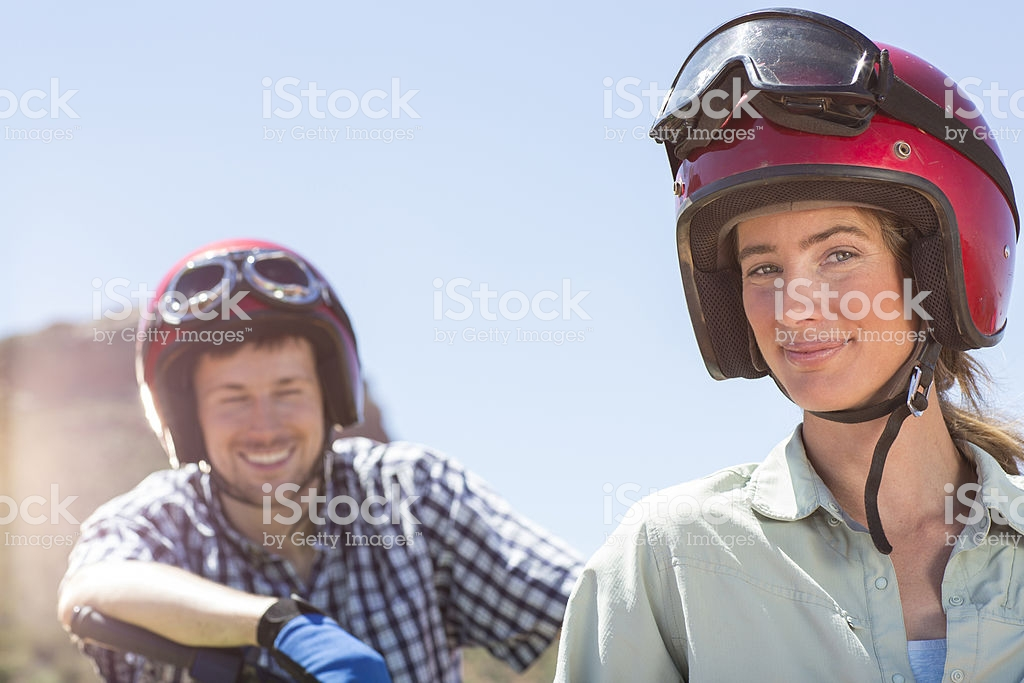helmet: (637, 42, 1024, 304), (134, 238, 361, 391)
